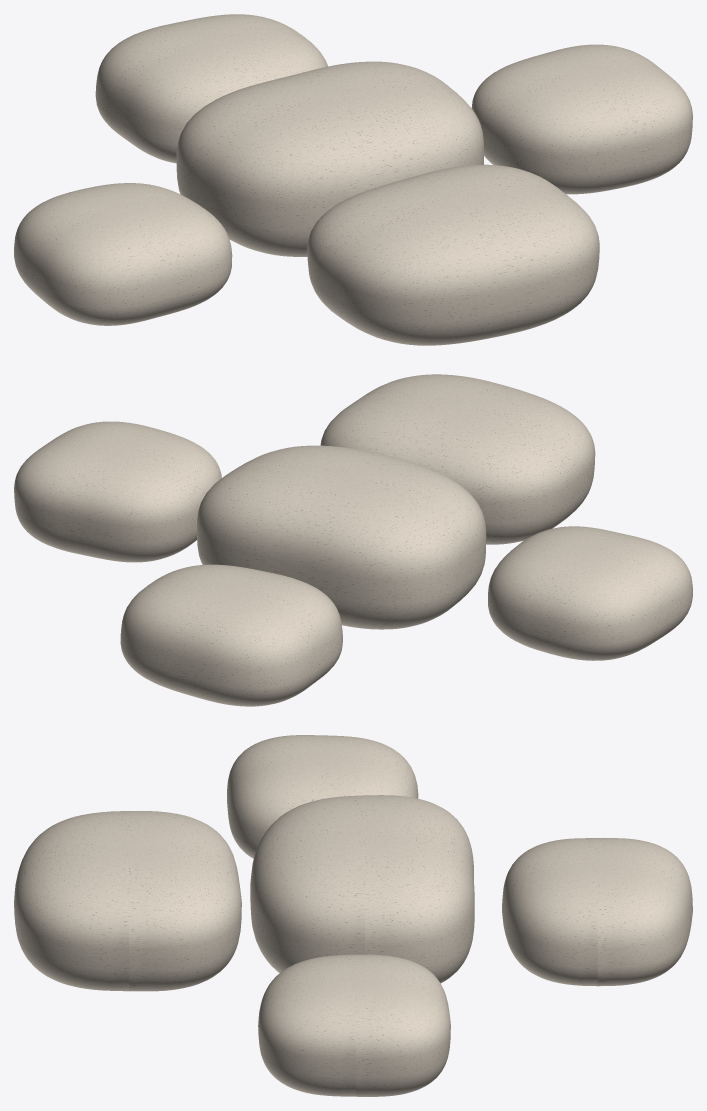
File: G24_granite_pebbles_5.glb
The picture shows the model from 3 angles, top to bottom: view 1: azimuth 30°, elevation 25°; view 2: azimuth 150°, elevation 25°; view 3: azimuth 270°, elevation 25°; orthographic projection. The views are drawn at different scales.
Parts seen in each view (by area): view 1: front_large / Shared warm ivory fine granular stone, central_long / Shared warm ivory fine granular stone, right / Shared warm ivory fine granular stone, left / Shared warm ivory fine granular stone, rear / Shared warm ivory fine granular stone; view 2: central_long / Shared warm ivory fine granular stone, front_large / Shared warm ivory fine granular stone, rear / Shared warm ivory fine granular stone, right / Shared warm ivory fine granular stone, left / Shared warm ivory fine granular stone; view 3: front_large / Shared warm ivory fine granular stone, central_long / Shared warm ivory fine granular stone, rear / Shared warm ivory fine granular stone, right / Shared warm ivory fine granular stone, left / Shared warm ivory fine granular stone.
Boxes of the visible parts, x1=… form: front_large / Shared warm ivory fine granular stone: x1=307, y1=164, x2=599, y2=345; central_long / Shared warm ivory fine granular stone: x1=176, y1=61, x2=483, y2=256; right / Shared warm ivory fine granular stone: x1=471, y1=44, x2=692, y2=194; left / Shared warm ivory fine granular stone: x1=14, y1=183, x2=232, y2=325; rear / Shared warm ivory fine granular stone: x1=95, y1=14, x2=327, y2=163; central_long / Shared warm ivory fine granular stone: x1=197, y1=445, x2=486, y2=629; front_large / Shared warm ivory fine granular stone: x1=320, y1=374, x2=595, y2=544; rear / Shared warm ivory fine granular stone: x1=120, y1=564, x2=342, y2=706; right / Shared warm ivory fine granular stone: x1=14, y1=421, x2=221, y2=562; left / Shared warm ivory fine granular stone: x1=488, y1=526, x2=692, y2=660; front_large / Shared warm ivory fine granular stone: x1=14, y1=811, x2=241, y2=991; central_long / Shared warm ivory fine granular stone: x1=250, y1=795, x2=474, y2=982; rear / Shared warm ivory fine granular stone: x1=502, y1=838, x2=692, y2=986; right / Shared warm ivory fine granular stone: x1=258, y1=954, x2=450, y2=1096; left / Shared warm ivory fine granular stone: x1=227, y1=735, x2=418, y2=858.
Bounding box in the file's own units: 2.1 × 0.405 × 1.94.
1 material, 1 textured.
